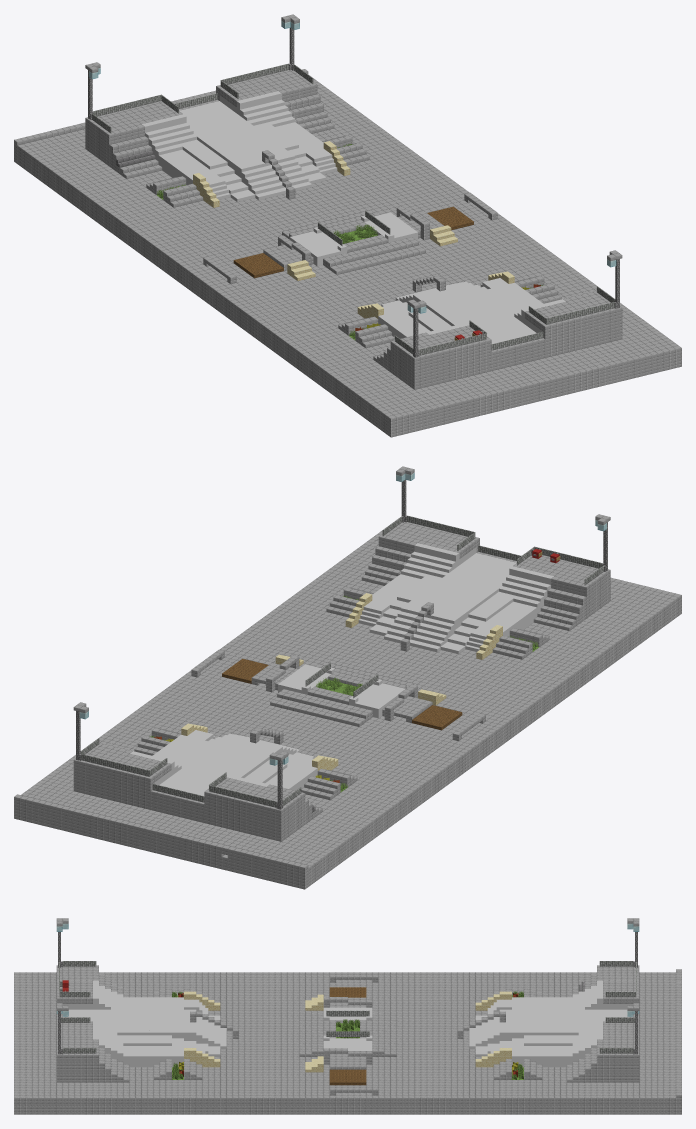
Rendered from skatepark.fbx.
3 renders of one model, top to bottom at view 1: azimuth 30°, elevation 25°; view 2: azimuth 150°, elevation 25°; view 3: azimuth 270°, elevation 25°, orthographic. The views are drawn at different scales.
Parts seen in each view (by area): view 1: Traditional_mansion_jarrah{jar9}__1360_68_254_to_1408_129_36; view 2: Traditional_mansion_jarrah{jar9}__1360_68_254_to_1408_129_36; view 3: Traditional_mansion_jarrah{jar9}__1360_68_254_to_1408_129_36.
Boxes of the visible parts, left/top/right/bottom form: Traditional_mansion_jarrah{jar9}__1360_68_254_to_1408_129_36: left=14, top=14, right=681, bottom=437; Traditional_mansion_jarrah{jar9}__1360_68_254_to_1408_129_36: left=14, top=466, right=681, bottom=889; Traditional_mansion_jarrah{jar9}__1360_68_254_to_1408_129_36: left=14, top=918, right=681, bottom=1114.
Bounding box in the file's own units: 4900 × 1650 × 11000.
